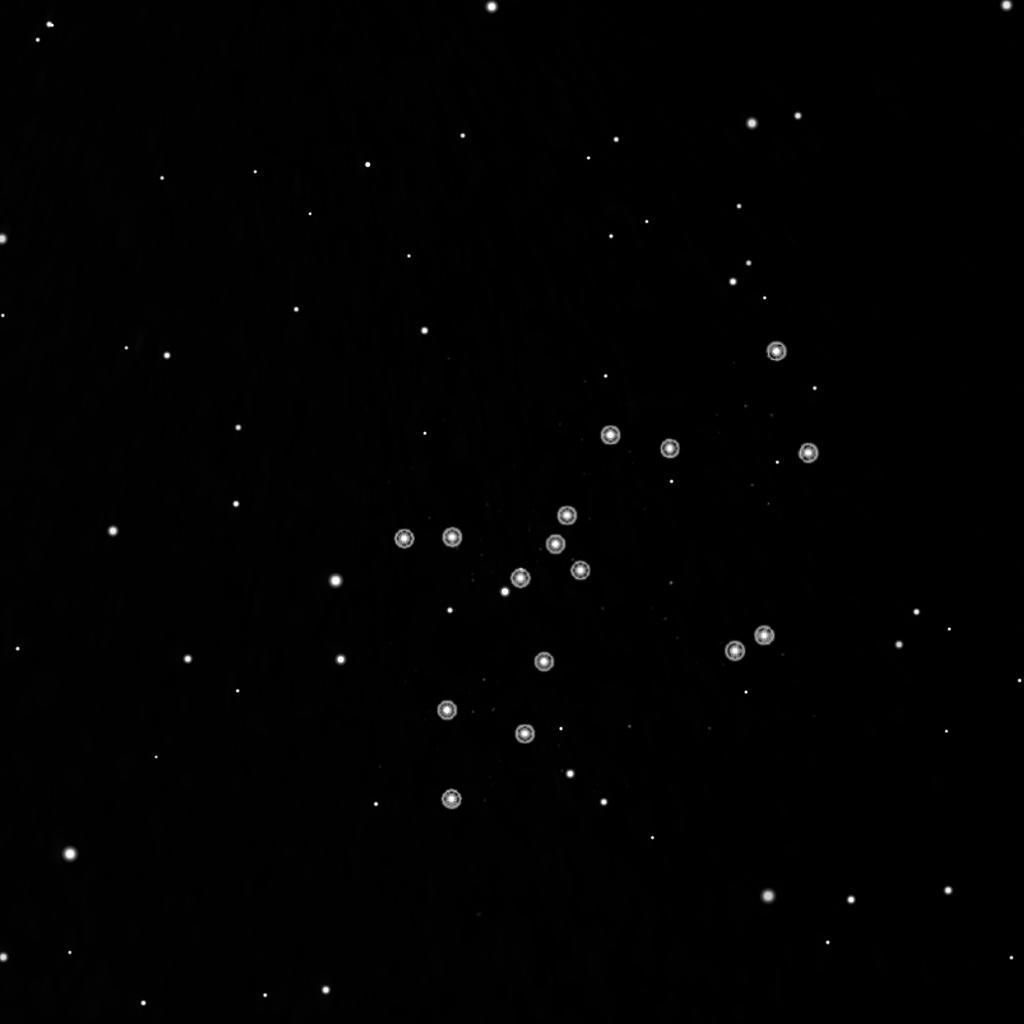canis_major: (506, 419, 685, 595)
